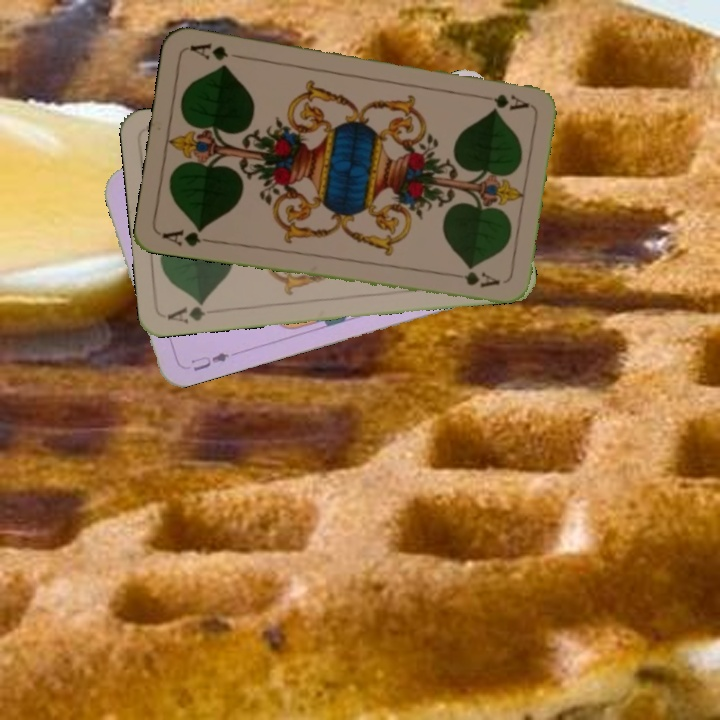EU: (187, 348, 232, 374)
GA: (158, 223, 217, 249), (163, 297, 208, 326), (473, 90, 531, 112)
